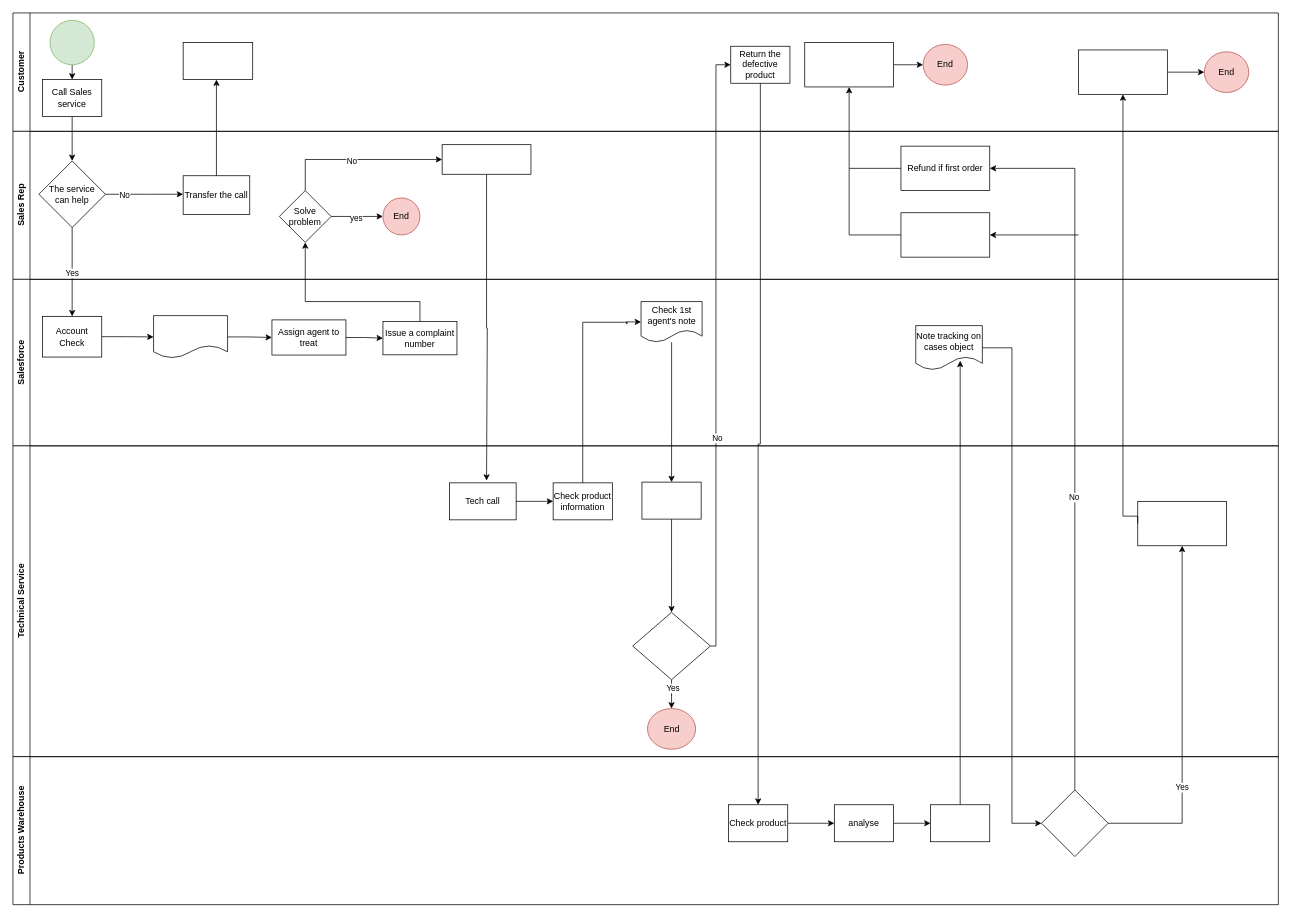
Image size: 1291x918. Some labels were removed from this diagram. Here are the shapes that lost their labels. From the top down, the centre of each, then its label:
At (71,42): "Start".
At (217,61): "Other question".
At (849,64): "Get refund or voucher".
At (1122,71): "Get return product".
At (486,159): "Call transfer".
At (945,234): "Purchase voucher if many orders".
At (190,336): "Fill record information in the cases object".
At (671,500): "Investigation".
At (1182,523): "Repair product".
At (671,646): "Solve problem on the phone".
At (960,823): "Testing".
At (1074,823): "Repairability".
